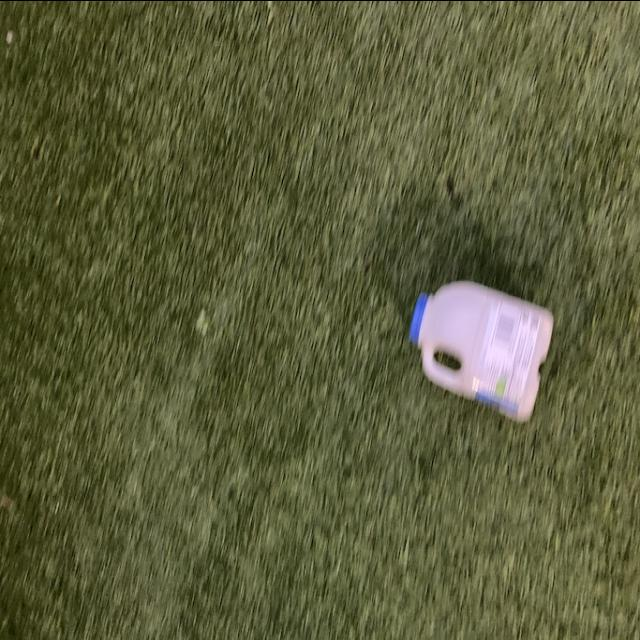litter: (408, 274, 558, 422)
